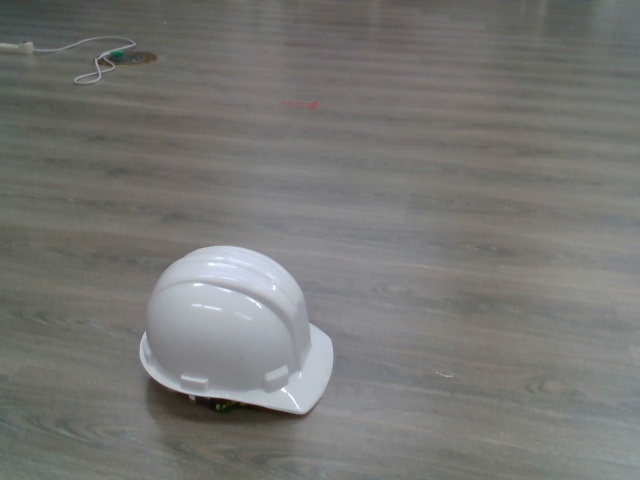helmet: (131, 241, 339, 422)
